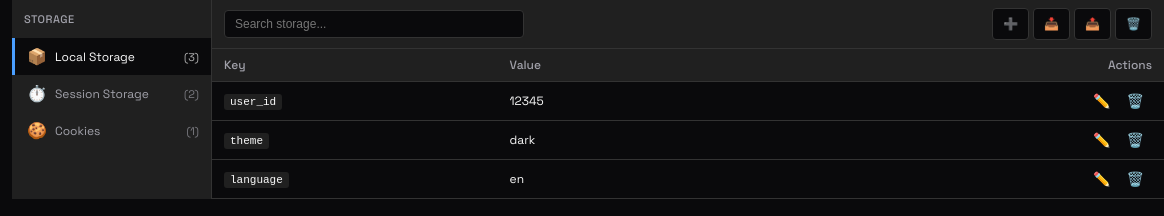
Scenario: StorageTab › should switch to sessionStorage when clicked
Click the text "Session Storage".
click(102, 94)  # box [55,86,149,102]
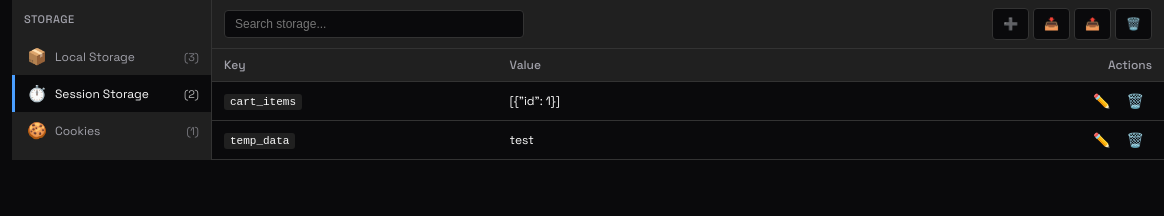
Expected: the text "cart_items" is shown, [224,94,302,110]
Expected: the text "temp_data" is shown, [224,133,295,149]
